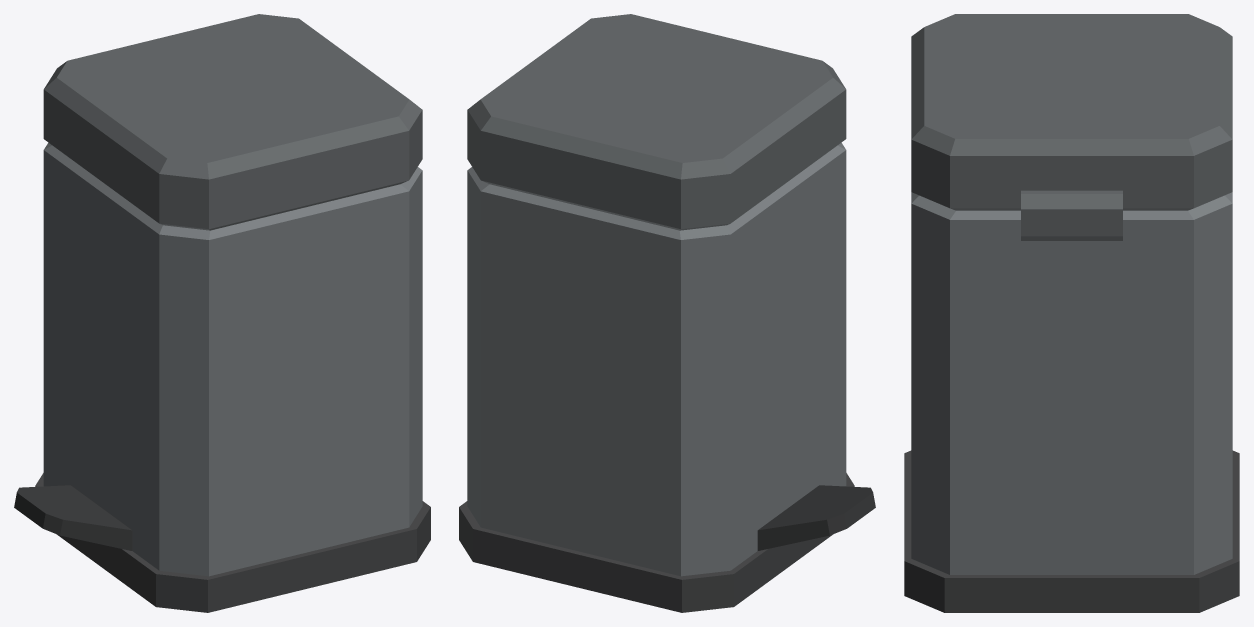
File: SM_Props_Interior_Shop_Dustbin_01.fbx
The picture shows the model from 3 angles, left to right: view 1: azimuth 30°, elevation 25°; view 2: azimuth 150°, elevation 25°; view 3: azimuth 270°, elevation 25°; orthographic projection. The views are drawn at different scales.
Visible parts, largest first — view 1: SM_Props_Interior_Shop_Dustbin_01; view 2: SM_Props_Interior_Shop_Dustbin_01; view 3: SM_Props_Interior_Shop_Dustbin_01.
Part boxes in pixels (left/top/right/bottom): SM_Props_Interior_Shop_Dustbin_01: left=14, top=14, right=430, bottom=612; SM_Props_Interior_Shop_Dustbin_01: left=459, top=14, right=875, bottom=612; SM_Props_Interior_Shop_Dustbin_01: left=904, top=14, right=1239, bottom=612.
Size of the model in its own units: 33.53 by 40 by 26.11.
